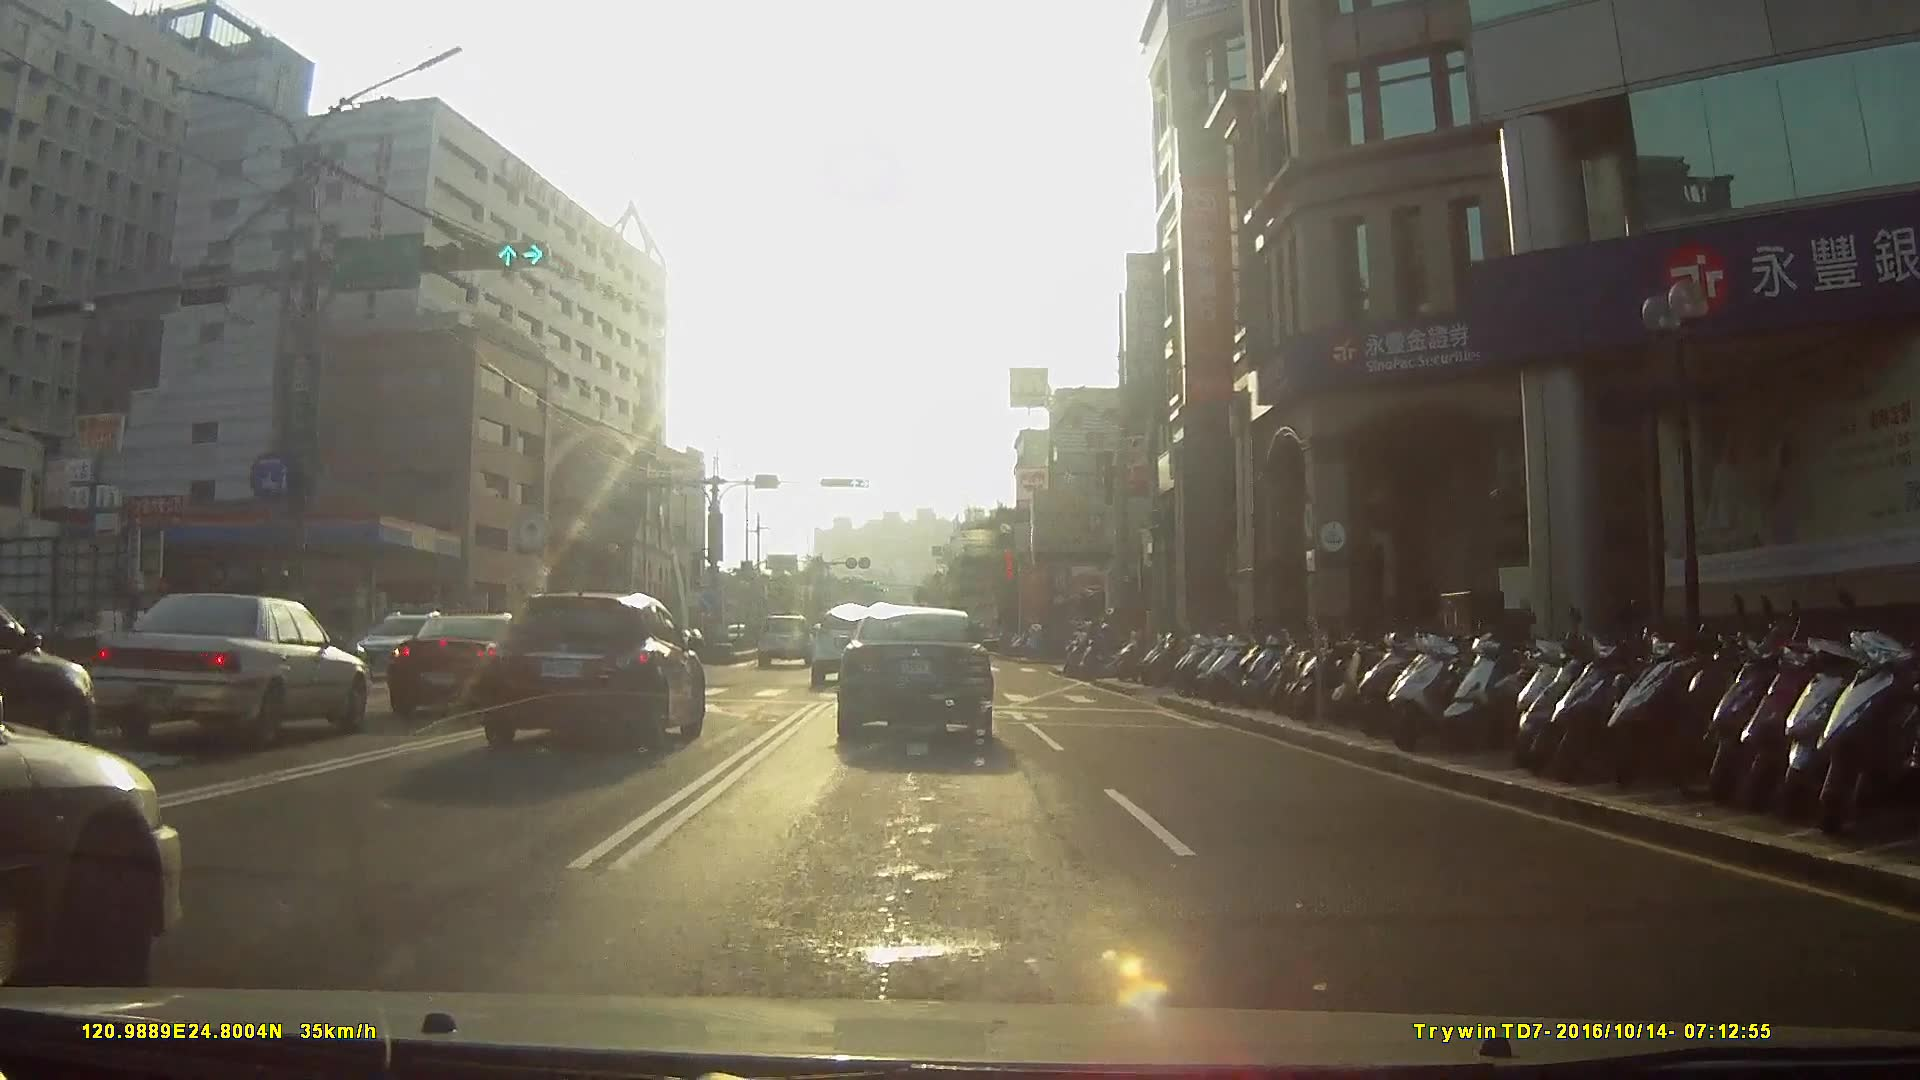rider: (1077, 621, 1140, 678)
vehicle: (1, 656, 187, 1005), (82, 586, 375, 749), (467, 582, 718, 756), (833, 603, 1005, 747), (371, 605, 569, 725), (339, 606, 472, 680), (807, 604, 886, 688), (758, 611, 817, 666)
